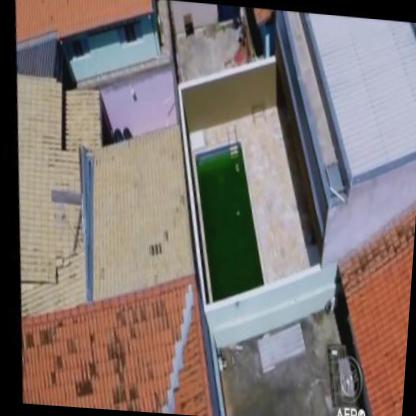agua: (199, 172, 254, 288)
